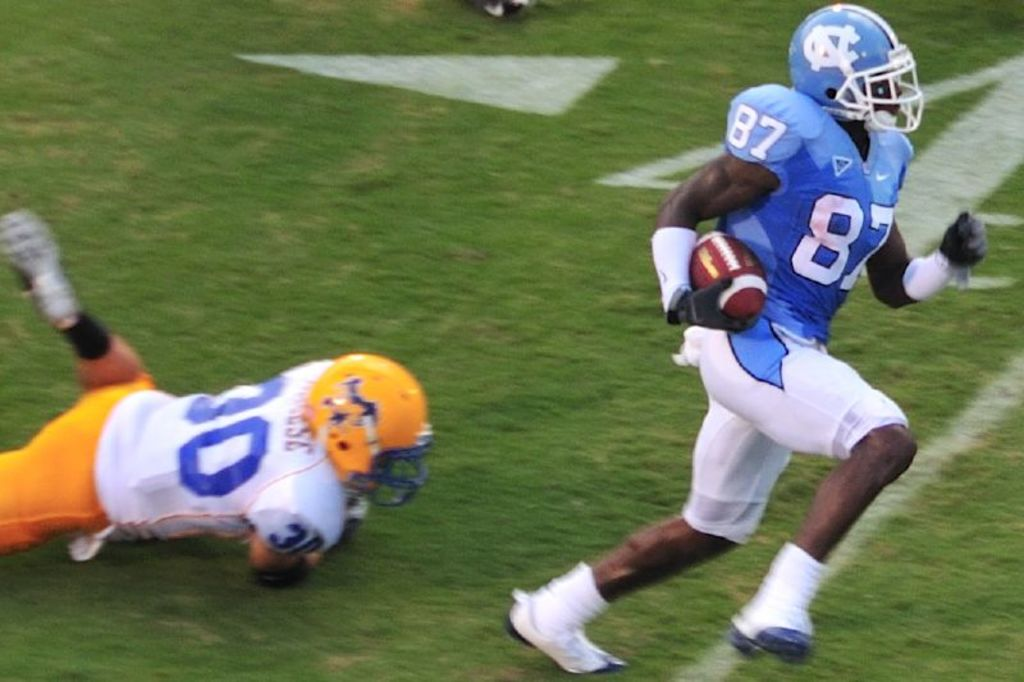Ball: (691, 226, 771, 324)
